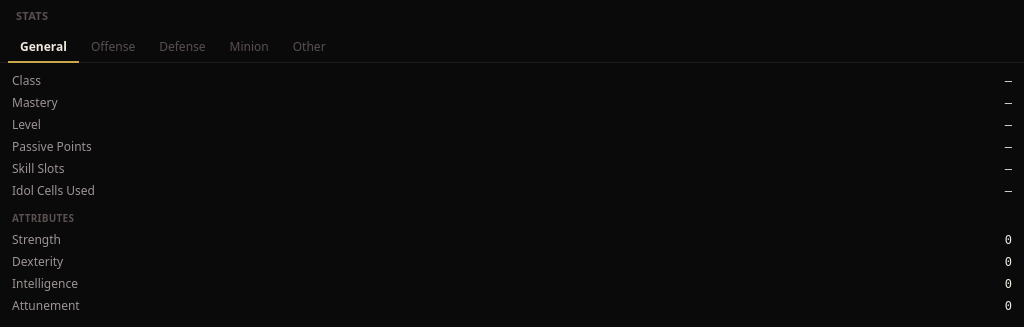
Test: StatSheetPanel › renders the four minion rows (not the placeholder) when minion is non-null (1.6 AC2)
This screenshot has width=1024, height=327.
Click the tab "Minion": (249, 48) top-left (218, 32), bottom-right (281, 62)
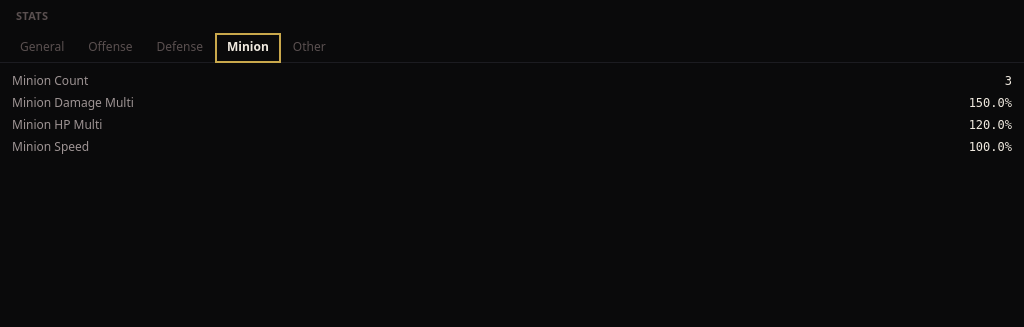
Check: the text "Minion Count" is shown, box top-left (12, 72), bottom-right (88, 88)
Check: the text "Minion Damage Multi" is shown, box top-left (12, 94), bottom-right (134, 110)
Check: the text "Minion HP Multi" is shown, box top-left (12, 116), bottom-right (102, 132)
